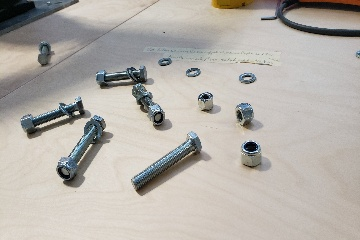Bolt: (127, 128, 209, 198)
FalseAssembly: (54, 117, 110, 185), (18, 96, 84, 137), (32, 37, 55, 69)
FinishedAssembly: (127, 84, 173, 126), (92, 68, 148, 84)
Nut: (238, 139, 263, 169), (194, 89, 217, 112), (234, 102, 255, 126)
Washer: (238, 72, 257, 83), (185, 66, 202, 78), (157, 58, 173, 67)
